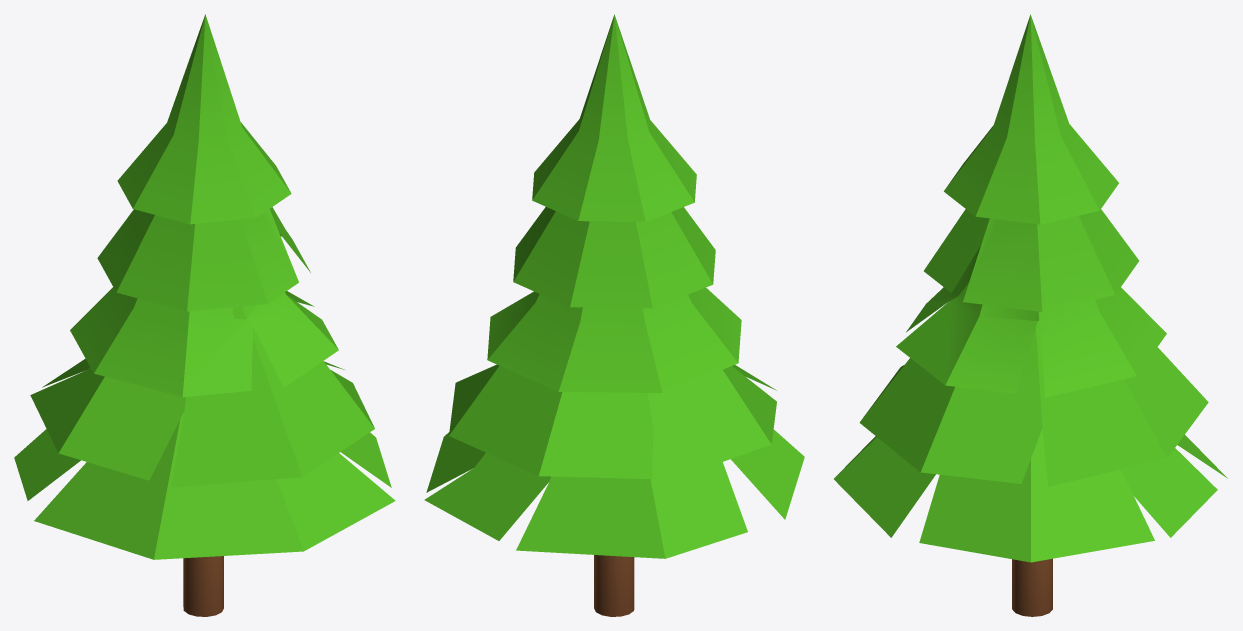
File: tree_03.fbx
The picture shows the model from 3 angles, left to right: view 1: azimuth 30°, elevation 25°; view 2: azimuth 150°, elevation 25°; view 3: azimuth 270°, elevation 25°; orthographic projection.
Visible parts, largest first — view 1: tree_03; view 2: tree_03; view 3: tree_03.
Boxes of the visible parts, x1,y1,x2,y2 form: tree_03: (14, 14, 395, 616); tree_03: (424, 14, 804, 616); tree_03: (834, 14, 1227, 616).
Bounding box in the file's own units: 3.16 × 5.25 × 3.16.
Materials: 1 (1 with a texture image).
